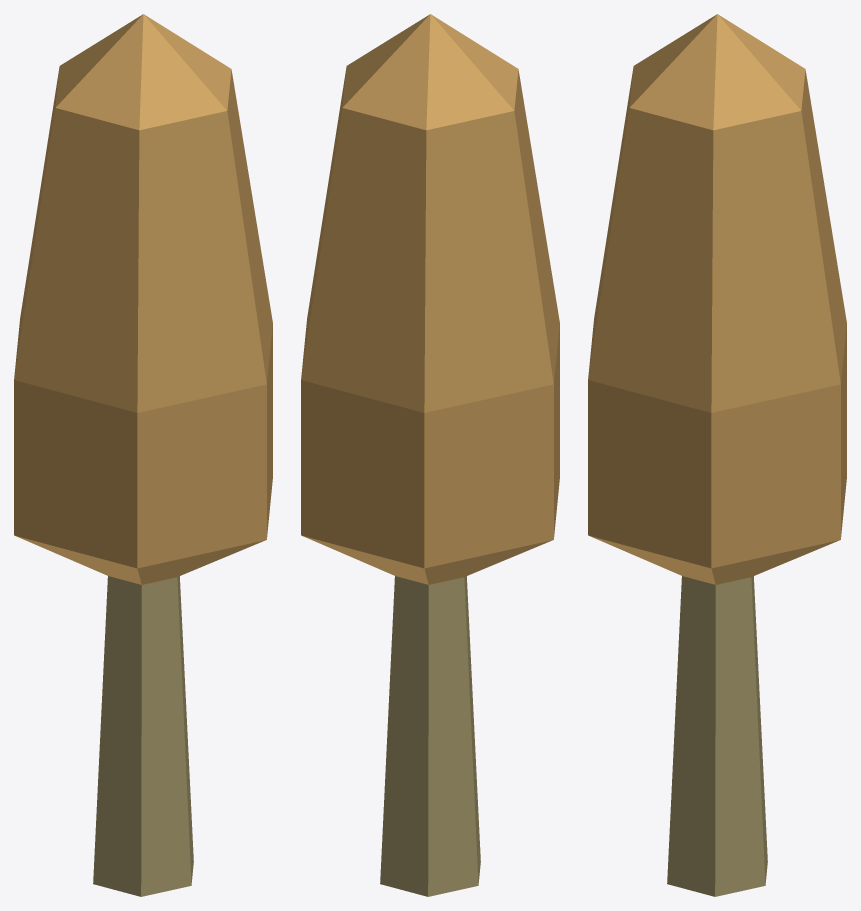
The model's file is albero3.fbx.
3 renders of one model, left to right at view 1: azimuth 30°, elevation 25°; view 2: azimuth 150°, elevation 25°; view 3: azimuth 270°, elevation 25°, orthographic.
Visible parts, largest first — view 1: Tree_Generic_Autumn_01; view 2: Tree_Generic_Autumn_01; view 3: Tree_Generic_Autumn_01.
Part boxes in pixels (x1,y1,x2,y2): Tree_Generic_Autumn_01: (14,14,272,896); Tree_Generic_Autumn_01: (301,14,559,896); Tree_Generic_Autumn_01: (588,14,846,896).
Size of the model in its own units: 110 by 358 by 97.72.
